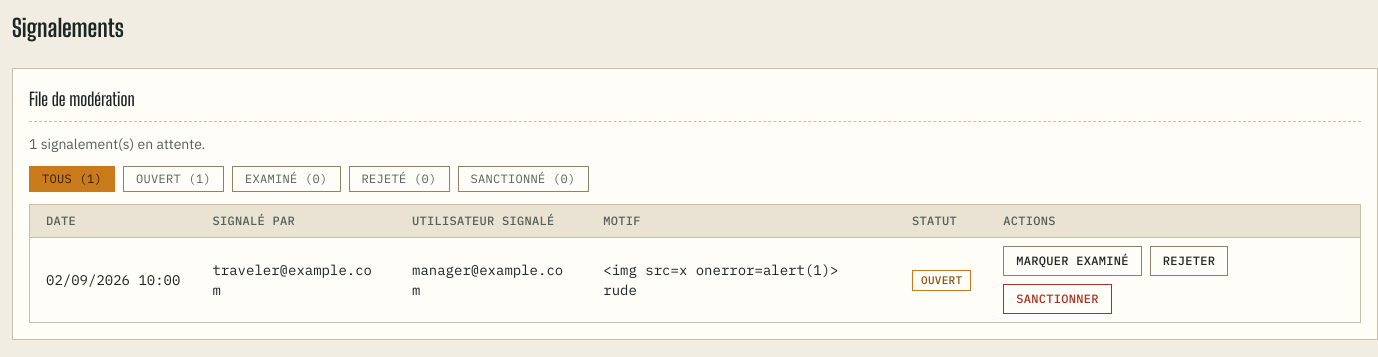
ReportQueueComponent › PATCHes the chosen status and updates the row in place
What coordinates should you click on to do the following:
click the button "Sanctionner"
I would click on:
 (1058, 299)
Its box is [1003,284,1112,314].
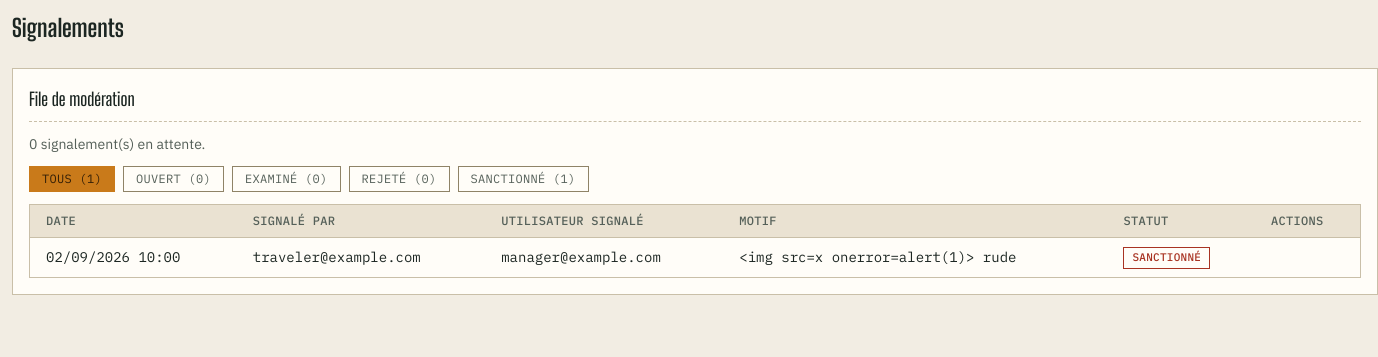
Expected: the row with class "table-row" shows "Sanctionné", [1132,250,1201,264]
